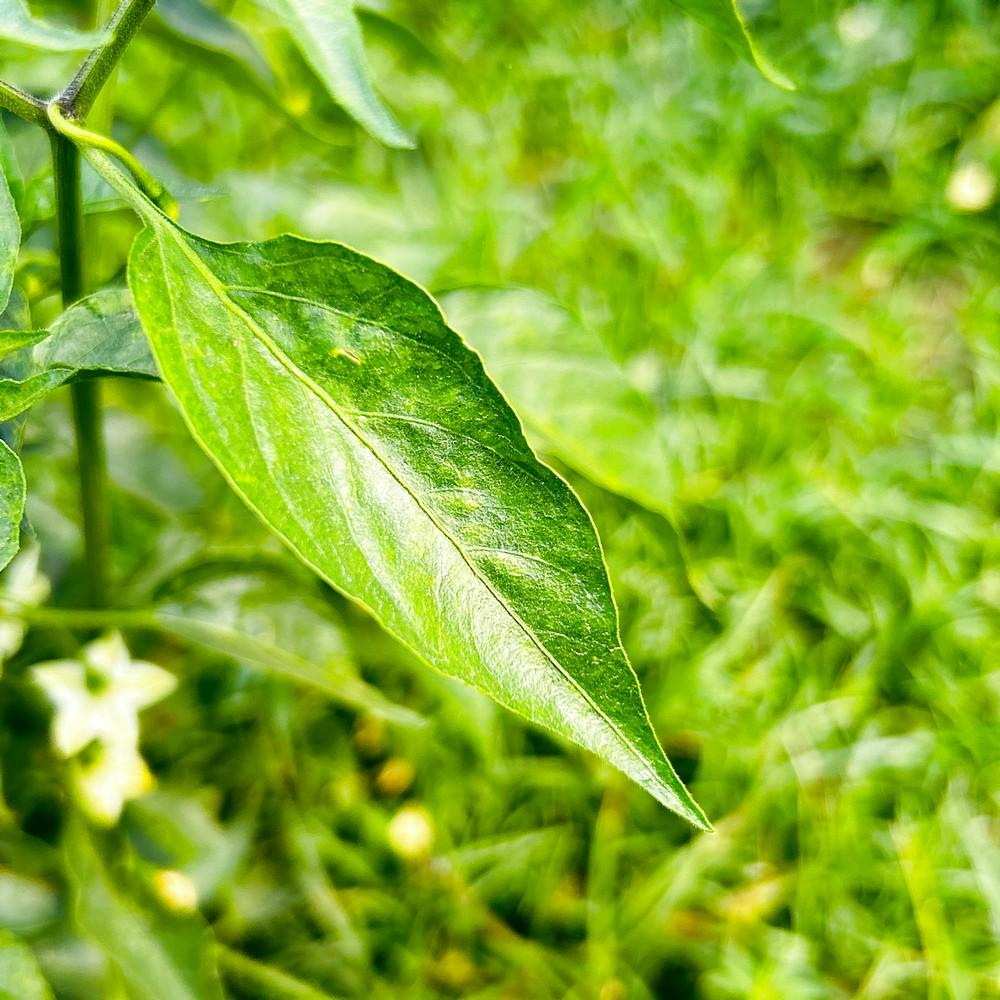Daun Cabai Sehat: (47, 103, 717, 834)
